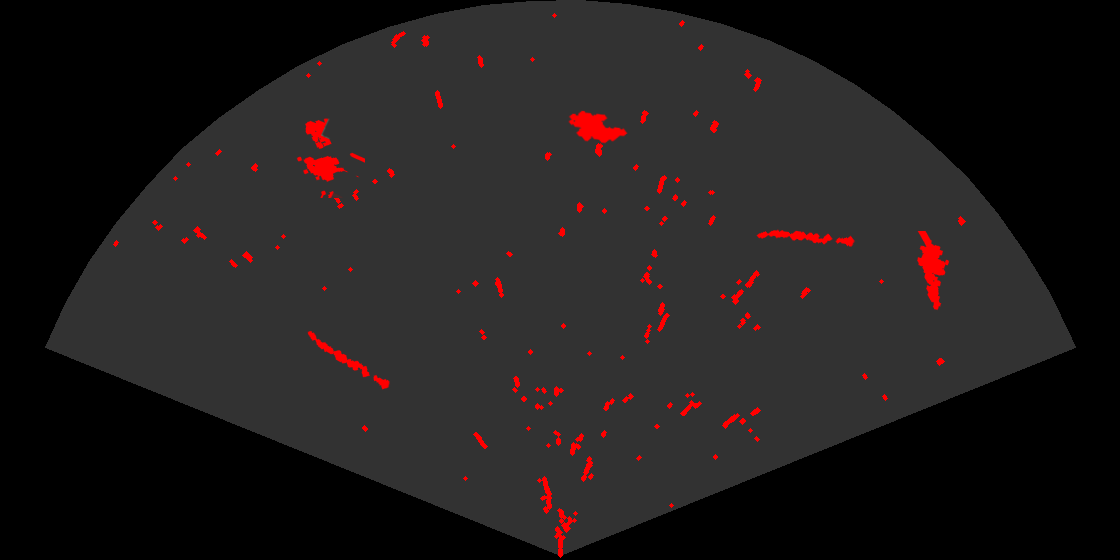AUV: (567, 109, 629, 145)
cage: (295, 116, 365, 198)
chain: (306, 329, 392, 391), (755, 228, 857, 248)
frogman: (916, 231, 951, 311)
